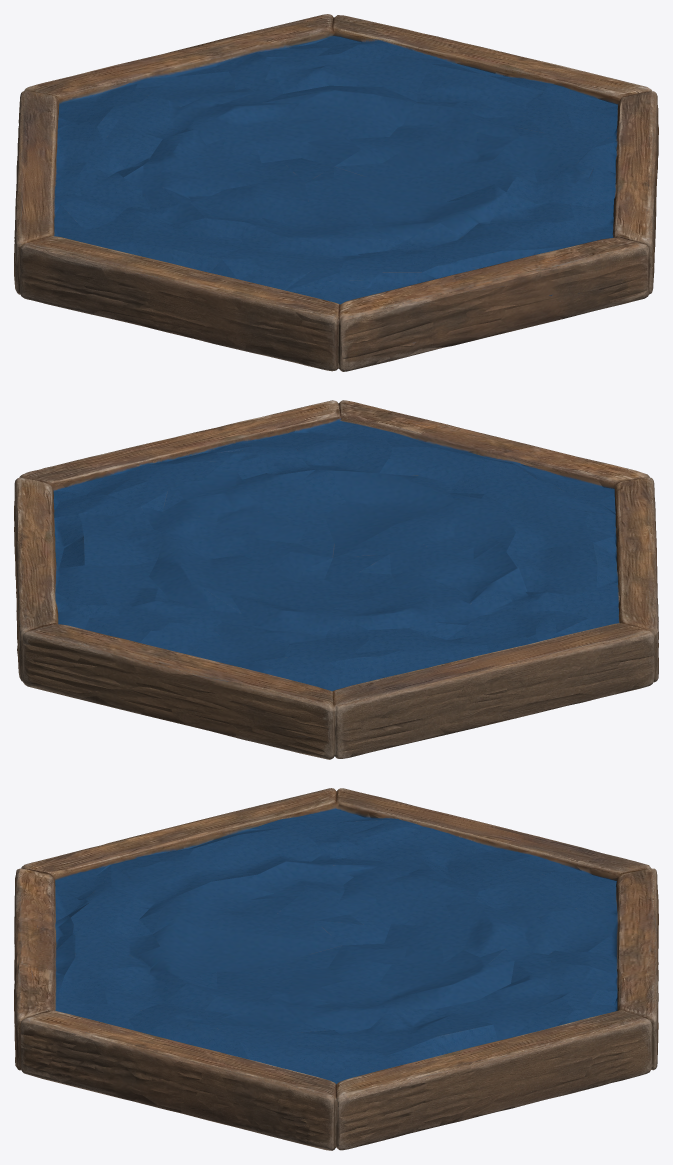
File: water-tile.glb
3 views of the same model, one above another, from view 1: azimuth 30°, elevation 25°; view 2: azimuth 150°, elevation 25°; view 3: azimuth 270°, elevation 25° (orthographic).
Parts seen in each view (by area): view 1: mesh_node; view 2: mesh_node; view 3: mesh_node.
Part boxes in pixels (x1,y1,x2,y2): mesh_node: [14, 14, 658, 371]; mesh_node: [14, 400, 658, 759]; mesh_node: [14, 788, 658, 1150].
Bounding box in the file's own units: 1.9 × 0.1789 × 1.66.
1 material, 1 textured.
